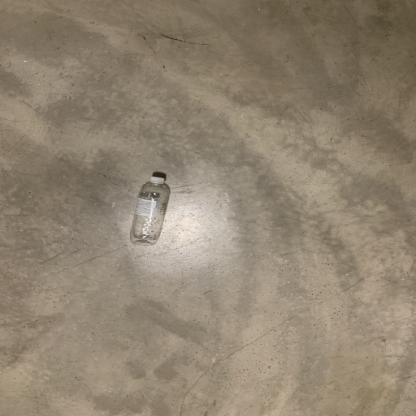trash: (127, 172, 172, 249)
